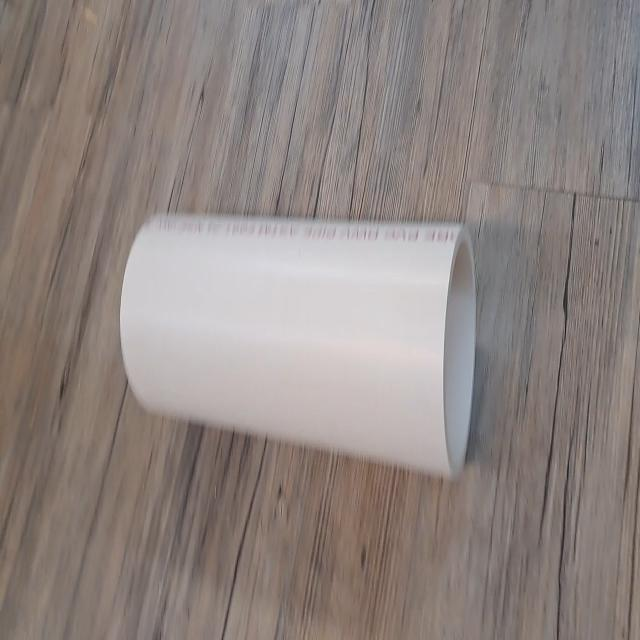CORAL: (114, 200, 490, 488)
